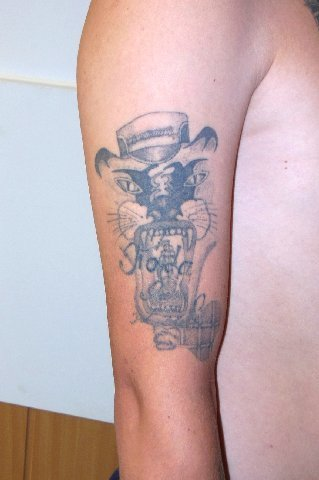tatu8_kot: (92, 114, 255, 362)
